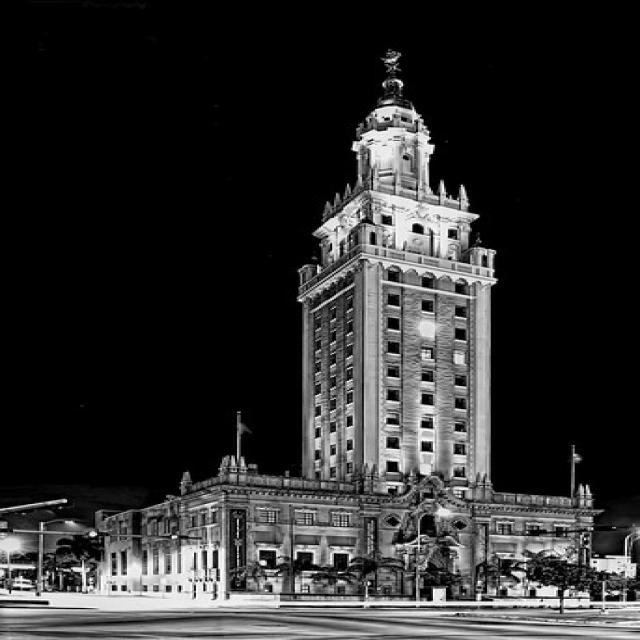Normal_building: (289, 87, 502, 576)
